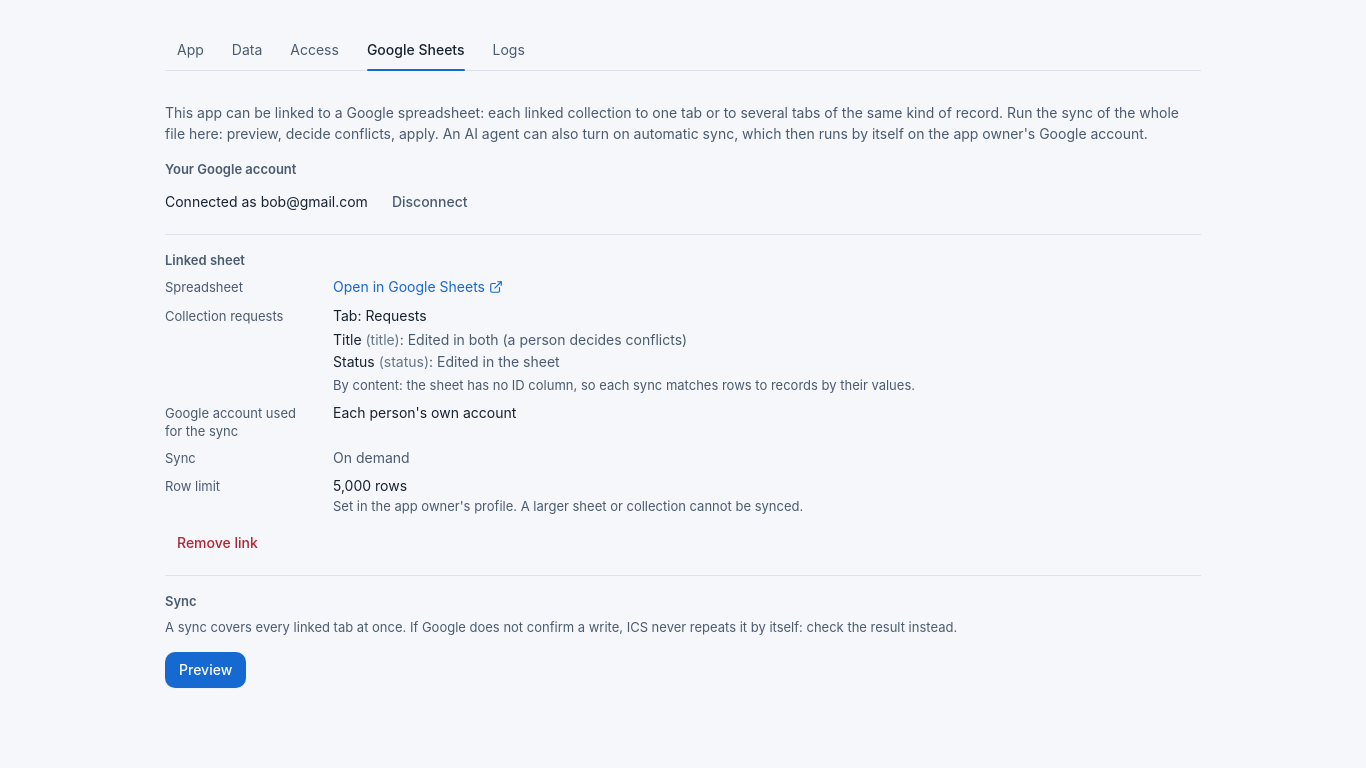
Test: Google Sheets tab, the sync › names rows of records missing from the app and rows matching no record
(page scrolled)
Click the button "Preview". click: [206, 670]
box: 165,652 -> 246,688
(page scrolled)
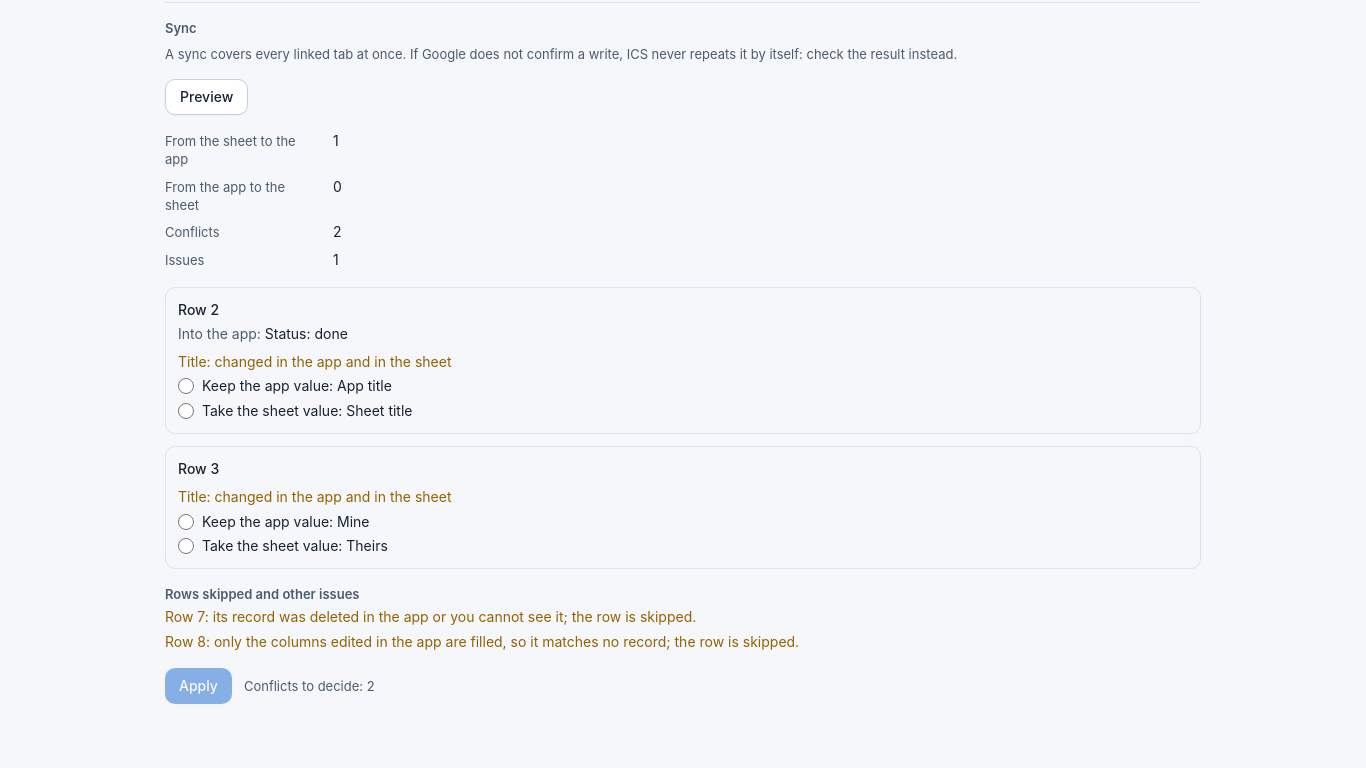
Check: the list item "Row 7: its record was deleted in the app or you cannot see it; the row is skipped." is shown, box 165,608 -> 696,625
Check: the list item "Row 8: only the columns edited in the app are filled" is shown, box 165,633 -> 799,650
